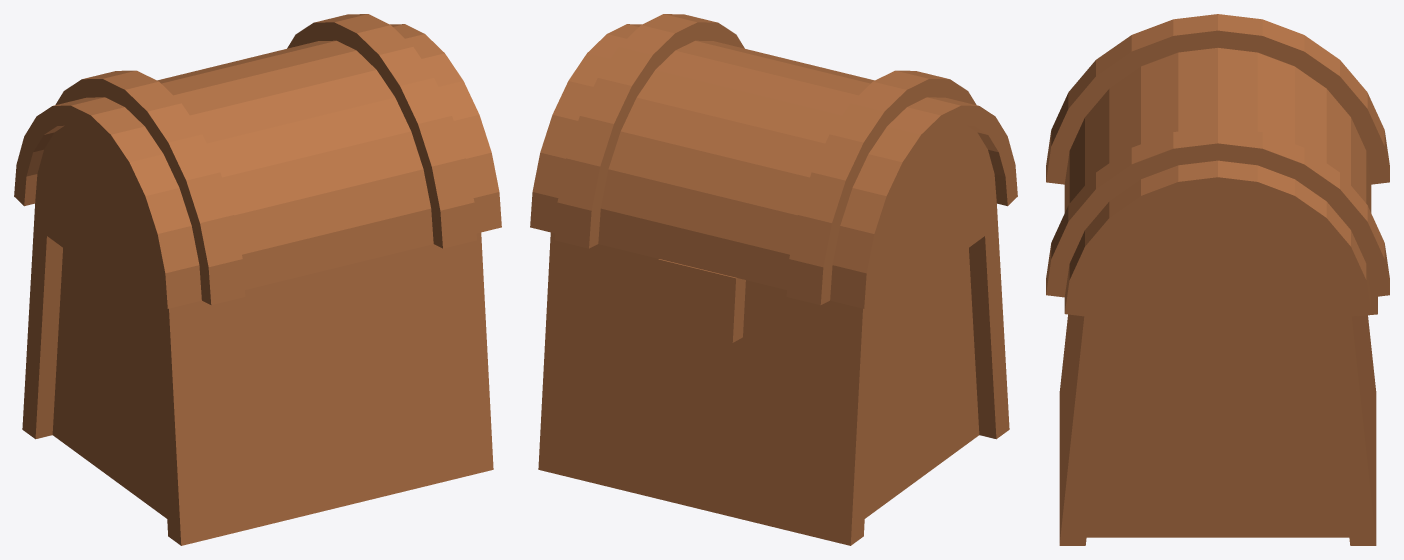
The model's file is chest.glb.
3 views of the same model, side by side, from view 1: azimuth 30°, elevation 25°; view 2: azimuth 150°, elevation 25°; view 3: azimuth 270°, elevation 25° (orthographic).
Visible parts, largest first — view 1: chest, lid; view 2: chest, lid; view 3: lid, chest.
Boxes of the visible parts, x1,y1,x2,y2 form: chest: (22, 204, 493, 545); lid: (14, 14, 501, 308); chest: (538, 204, 1009, 545); lid: (530, 14, 1017, 308); lid: (1046, 14, 1389, 316); chest: (1059, 296, 1377, 545).
Size of the model in its own units: 4.9 by 5.49 by 4.38.
